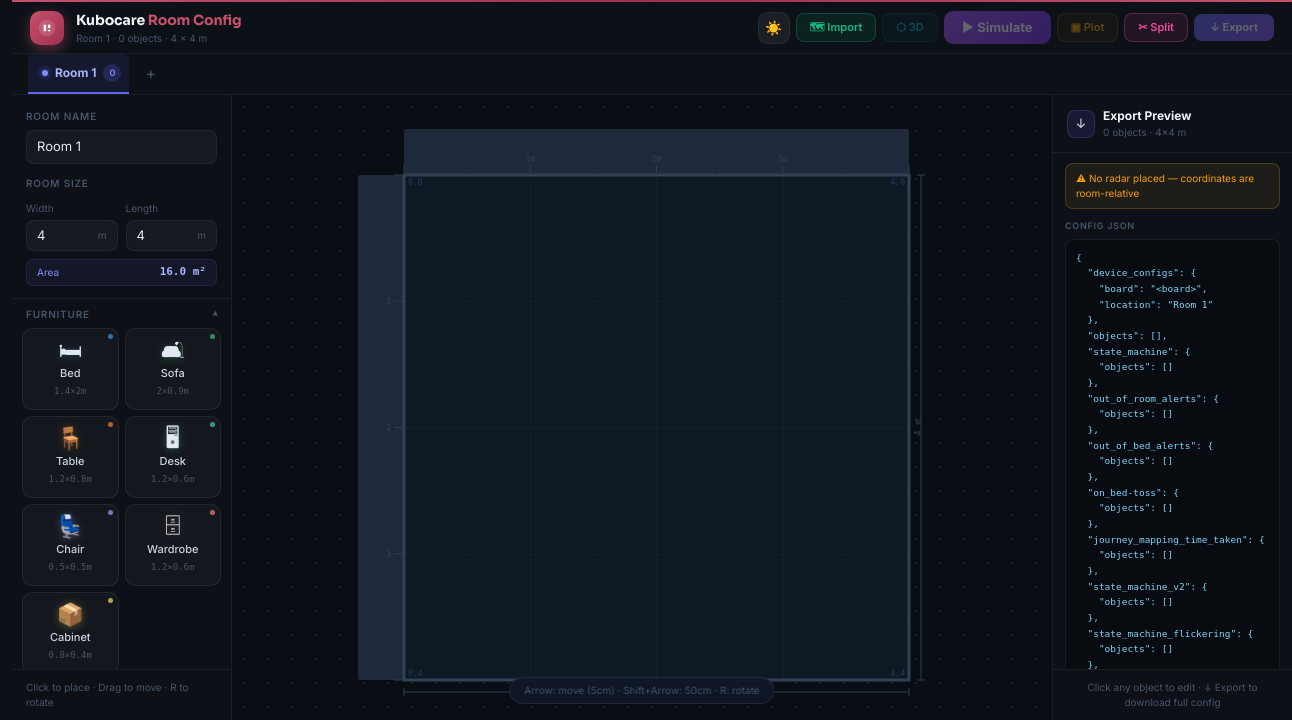
App — adding objects › adds bed to canvas and shows 1 object
Click the text "Bed": [70, 373] box [60,364,80,381]
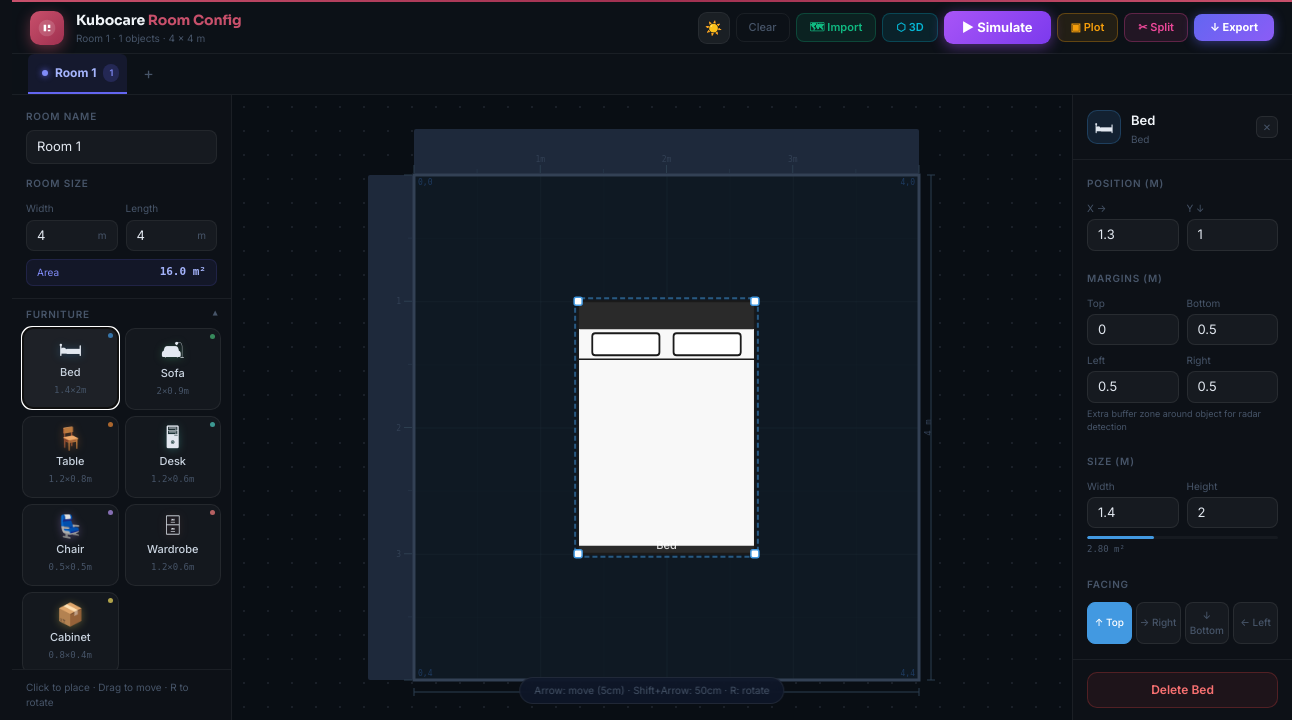
Now the text "Room 1 · 1 objects · 4 × 4 m" is shown, box [76,32,205,44]
